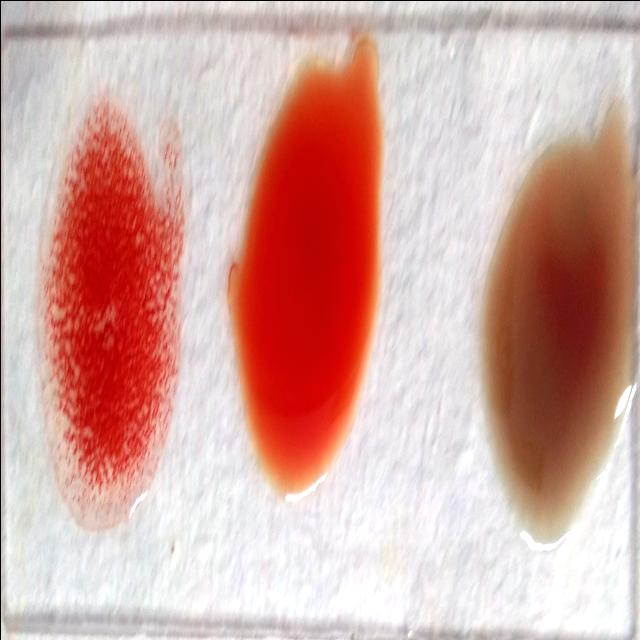D: (40, 118, 173, 520)
